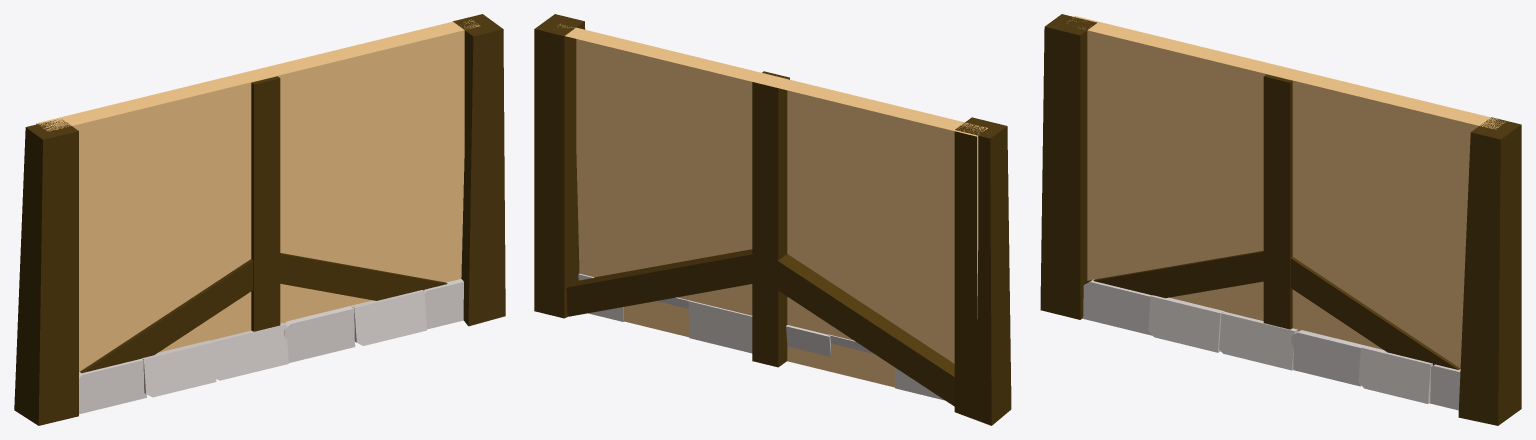
File: SM_SideWall1_LOD0.fbx
3 views of the same model, side by side, from view 1: azimuth 30°, elevation 25°; view 2: azimuth 150°, elevation 25°; view 3: azimuth 330°, elevation 25° (orthographic).
Parts seen in each view (by area): view 1: SM_SideWall1_LOD0; view 2: SM_SideWall1_LOD0; view 3: SM_SideWall1_LOD0.
Part boxes in pixels (<box>): SM_SideWall1_LOD0: <box>14,14,505,425</box>; SM_SideWall1_LOD0: <box>534,14,1011,425</box>; SM_SideWall1_LOD0: <box>1040,14,1521,425</box>.
Size of the model in its own units: 12.83 by 7.54 by 1.32.
